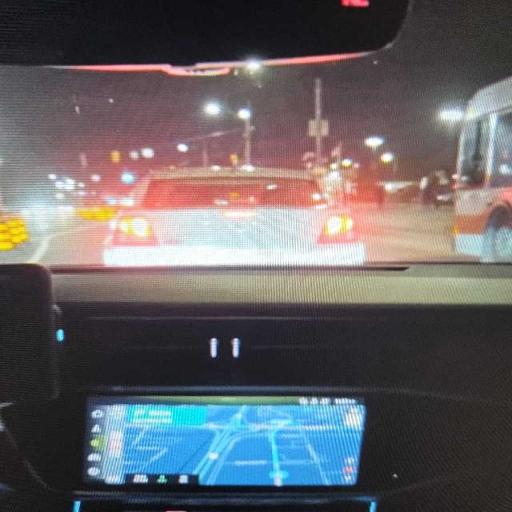car: (104, 168, 365, 266), (0, 212, 28, 251)
lane: (352, 205, 471, 262)
